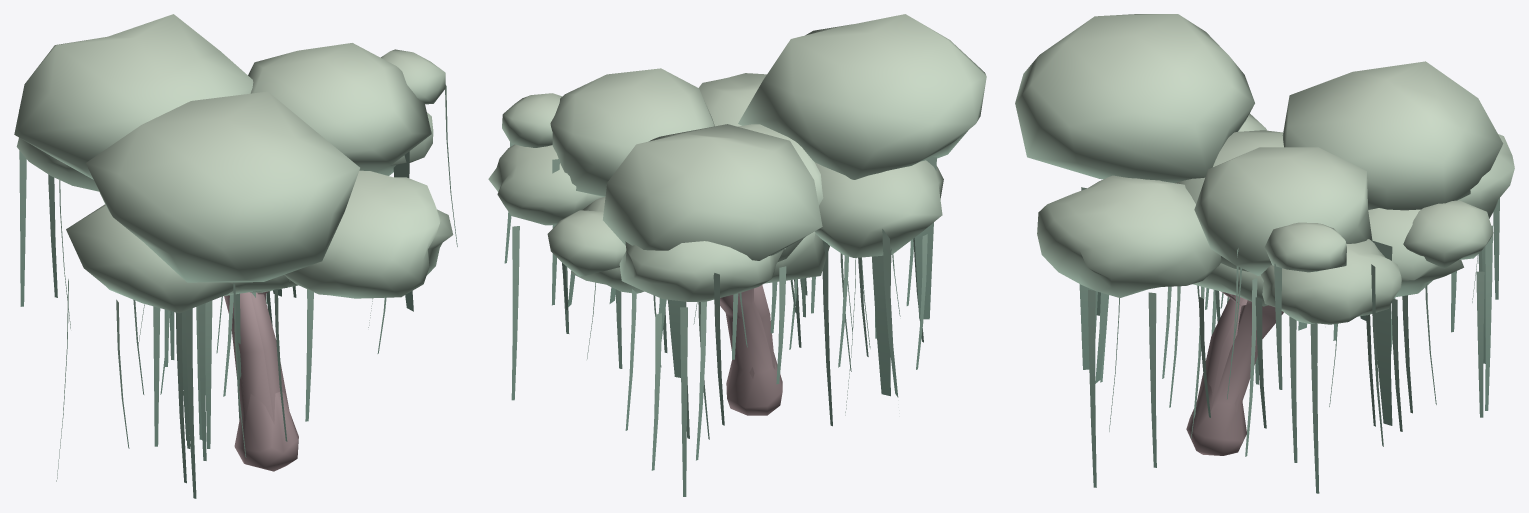
File: willow.glb
3 renders of one model, left to right at view 1: azimuth 30°, elevation 25°; view 2: azimuth 150°, elevation 25°; view 3: azimuth 270°, elevation 25°, orthographic. The views are drawn at different scales.
Parts seen in each view (by area): view 1: far, near; view 2: far, near; view 3: far, near.
Boxes of the visible parts, bbox=[...] form: far: bbox=[14, 14, 431, 424]; near: bbox=[16, 49, 457, 498]; far: bbox=[550, 14, 986, 397]; near: bbox=[488, 73, 943, 496]; far: bbox=[1015, 14, 1503, 425]; near: bbox=[1037, 113, 1514, 493].
Size of the model in its own units: 10.32 by 9.32 by 11.05.
